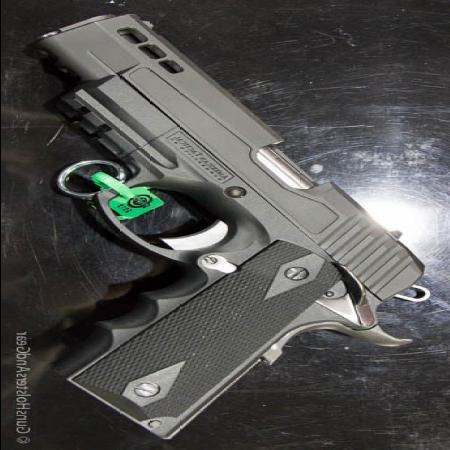Pistol: (26, 14, 433, 443)
